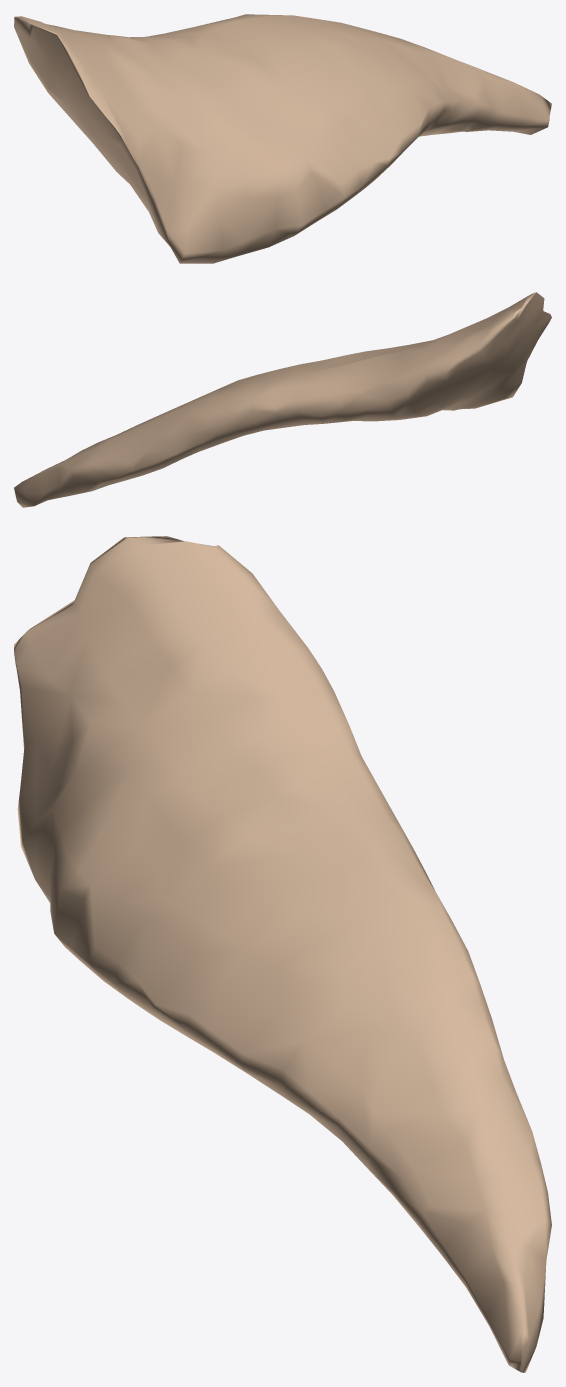
3 renders of one model, top to bottom at view 1: azimuth 30°, elevation 25°; view 2: azimuth 150°, elevation 25°; view 3: azimuth 270°, elevation 25°, orthographic. The views are drawn at different scales.
Parts seen in each view (by area): view 1: 左侧梨状肌筋膜; view 2: 左侧梨状肌筋膜; view 3: 左侧梨状肌筋膜.
Part boxes in pixels (<box>): 左侧梨状肌筋膜: <box>14,14,551,263</box>; 左侧梨状肌筋膜: <box>14,292,551,507</box>; 左侧梨状肌筋膜: <box>14,536,551,1372</box>.
Bounding box in the file's own units: 0.1632 × 0.0881 × 0.0943.
